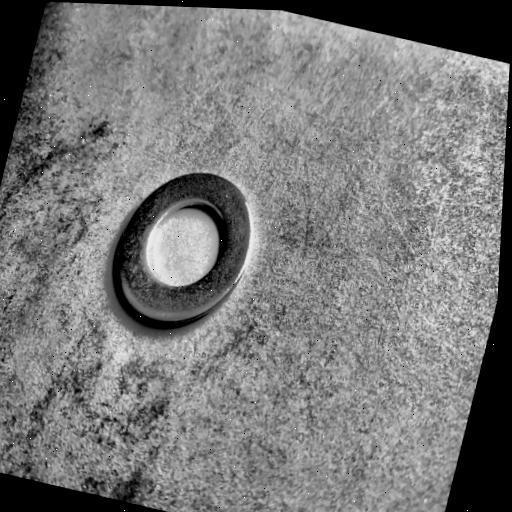Washer: (111, 172, 252, 328)
